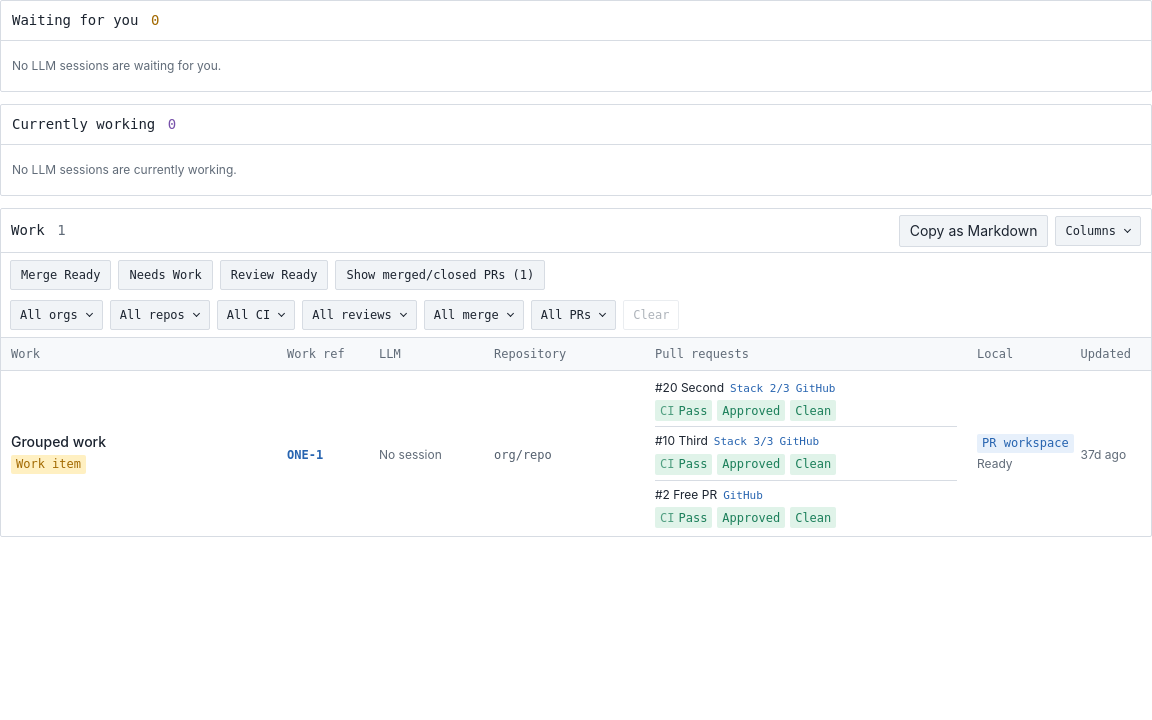
Scenario: shows linked PRs in work-item stack order with their full sequence positions
The width and height of the screenshot is (1152, 720).
Expected: the text "Stack 2/3" is shown, [730, 380, 790, 397]
Expected: the text "Stack 3/3" is shown, [714, 434, 774, 450]
Click the button "Show merged/closed PRs (1)": [440, 275] box [335, 260, 545, 290]
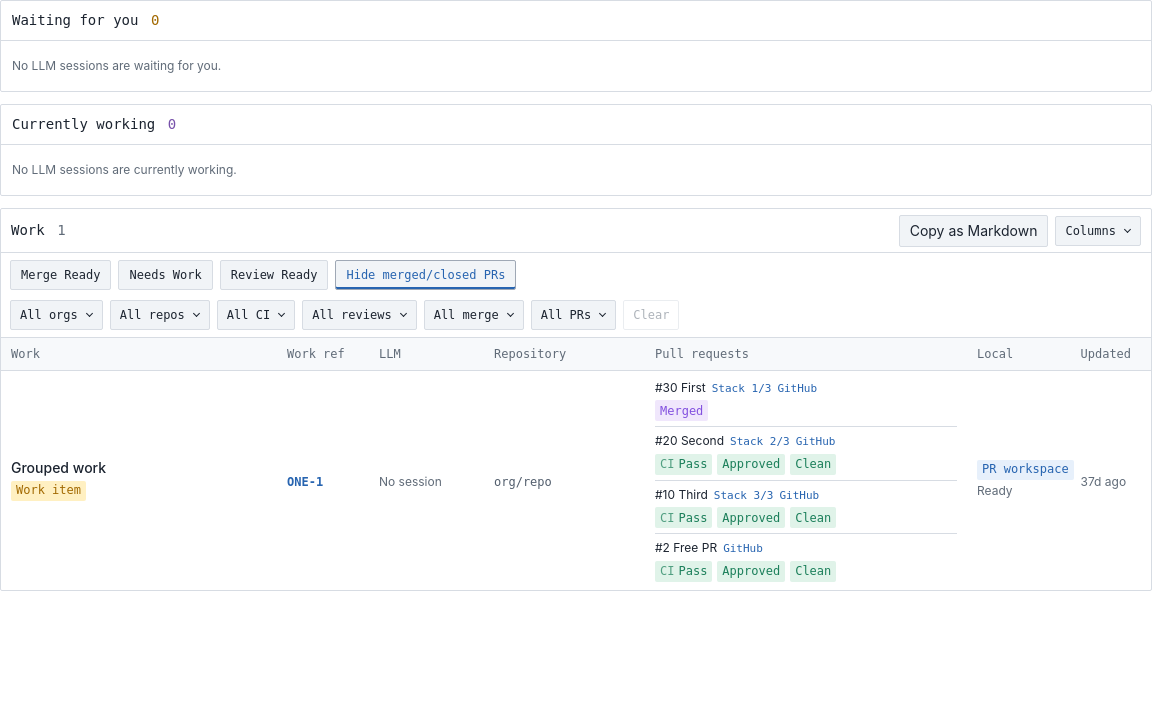
Result: the text "Stack 1/3" is shown at [712, 380, 771, 397]
